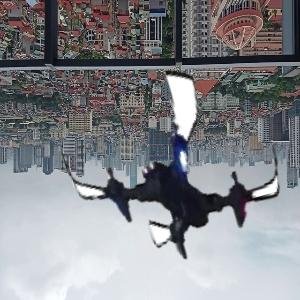drone: (62, 54, 284, 276)
